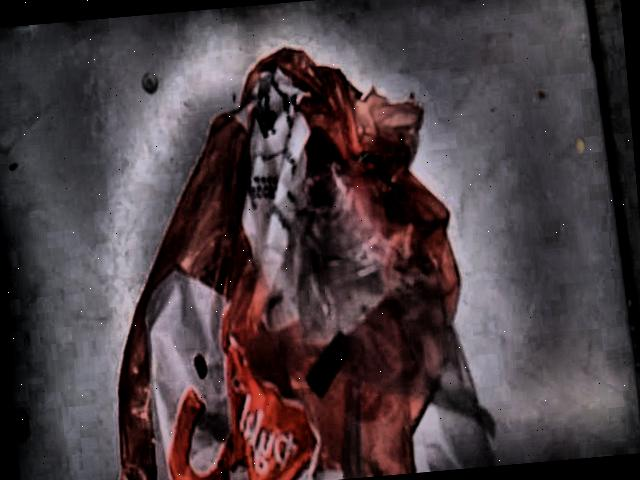Plastic: (116, 47, 497, 480)
